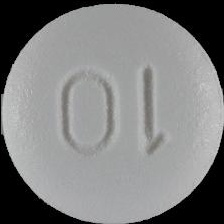61919-139: (0, 0, 224, 224)
